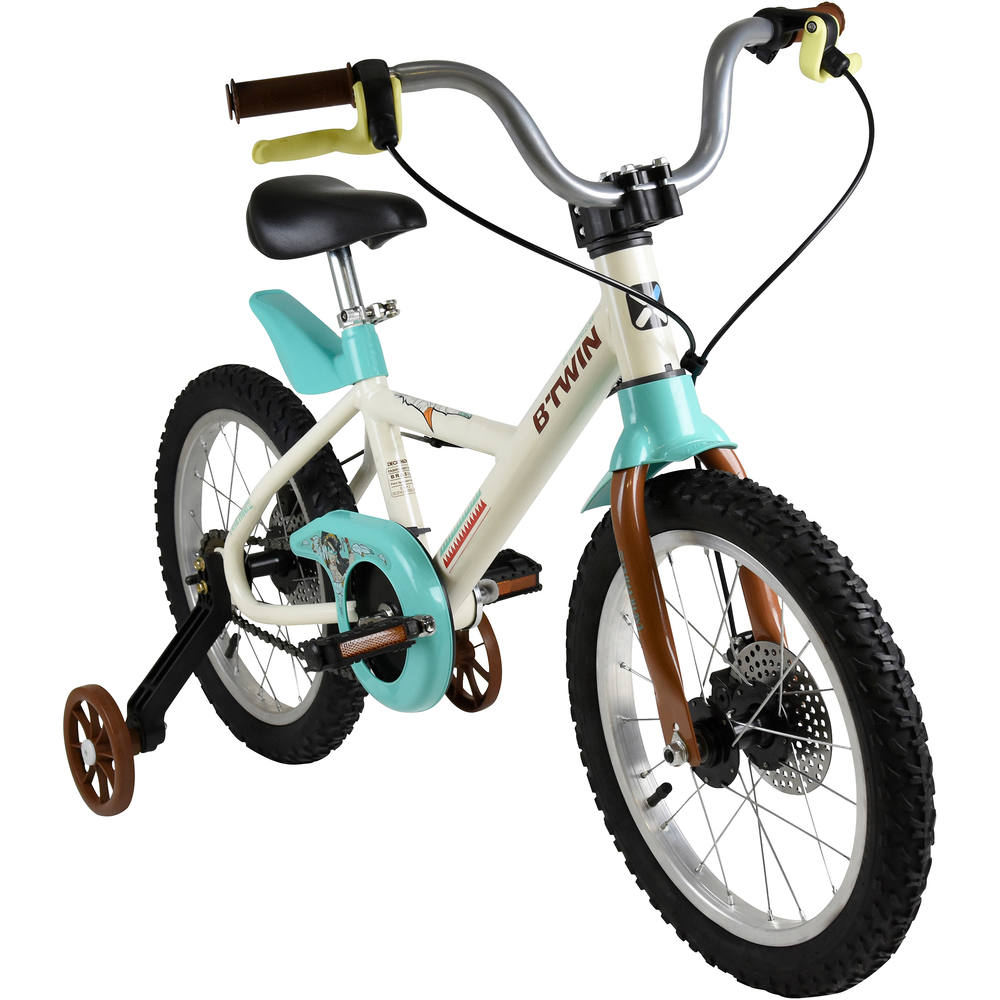Kids_bicycle: (57, 24, 901, 989)
